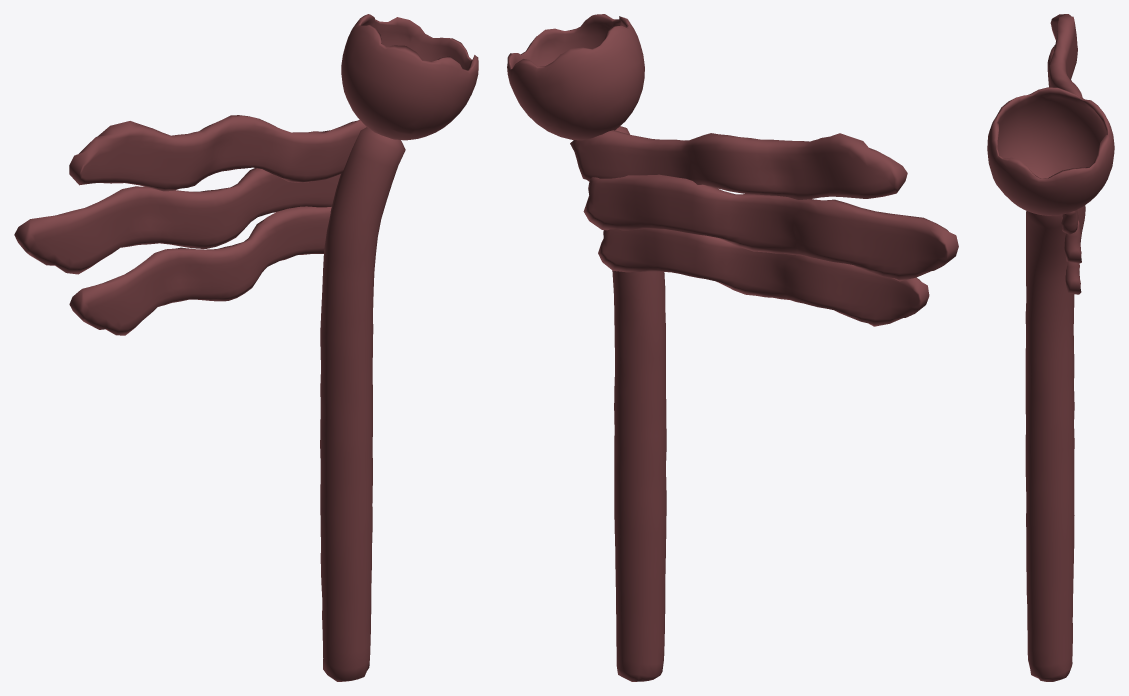
3 renders of one model, left to right at view 1: azimuth 30°, elevation 25°; view 2: azimuth 150°, elevation 25°; view 3: azimuth 270°, elevation 25°, orthographic. The views are drawn at different scales.
Parts seen in each view (by area): view 1: pCube4; view 2: pCube4; view 3: pCube4.
Part boxes in pixels (x1,y1,x2,y2): pCube4: (14, 14, 478, 681); pCube4: (507, 14, 958, 681); pCube4: (987, 14, 1114, 681).
Bounding box in the file's own units: 0.3566 × 0.4941 × 0.0948.
